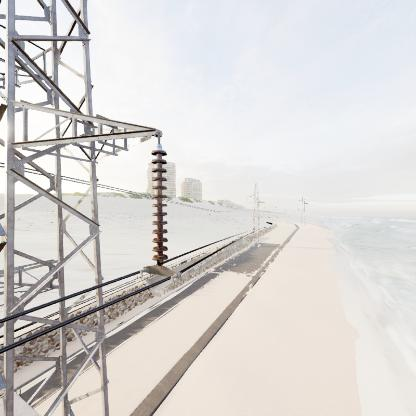insulator: (150, 146, 171, 267)
